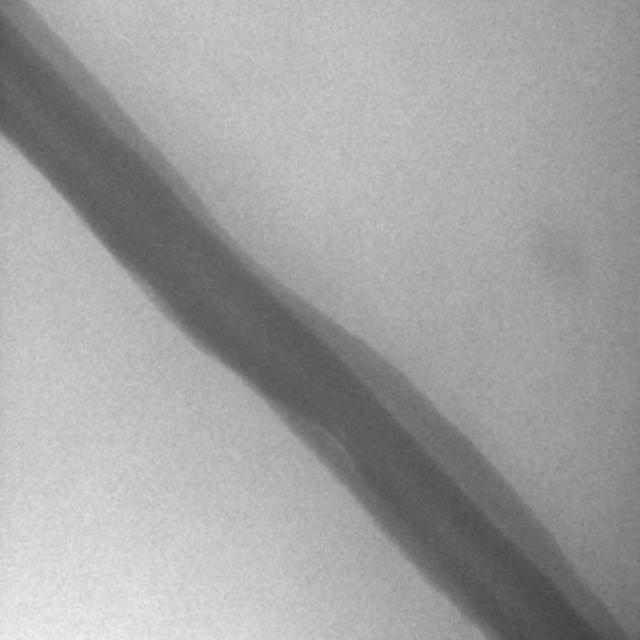unfused: (269, 396, 369, 489)
